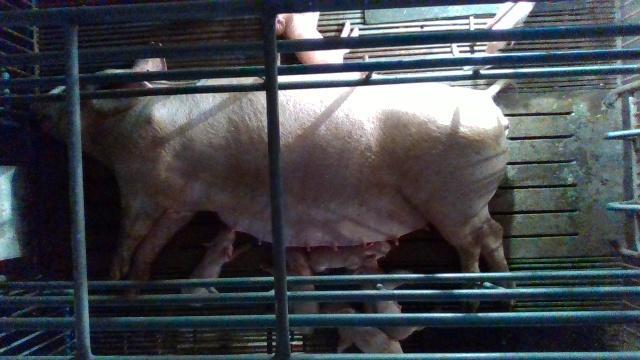piglet: (272, 4, 358, 69), (360, 256, 422, 338), (320, 310, 405, 360), (258, 247, 319, 314), (183, 227, 237, 294), (310, 241, 395, 272)
sow-sleep-lactate: (29, 56, 519, 310)
